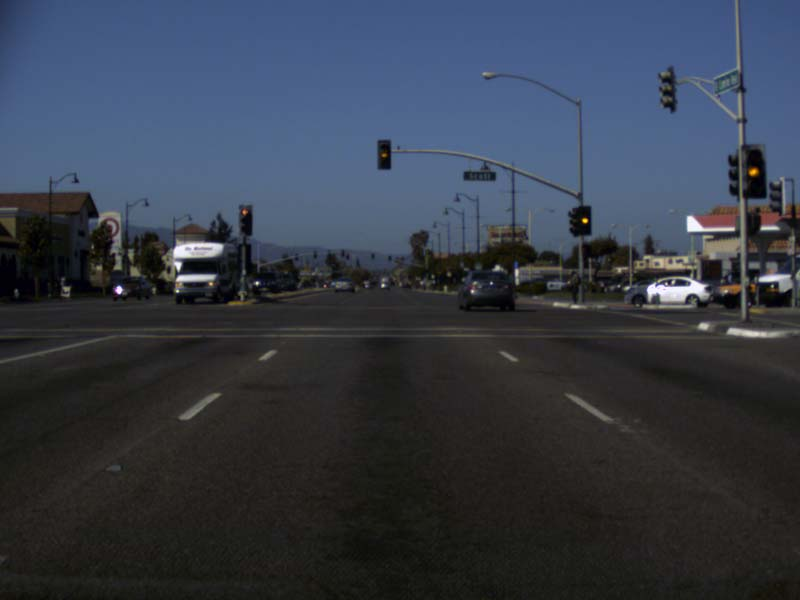Green: (388, 256, 391, 262), (426, 270, 428, 276)
Red: (238, 205, 252, 235), (345, 251, 349, 259)
Yellow: (745, 147, 765, 198), (377, 139, 391, 169), (577, 205, 590, 234)
